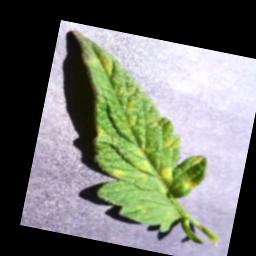Leaf_Mold: (129, 141, 157, 185), (161, 130, 183, 151), (97, 55, 115, 77), (156, 163, 175, 182), (188, 152, 206, 167), (181, 177, 200, 191), (92, 122, 107, 138), (111, 165, 127, 180)
